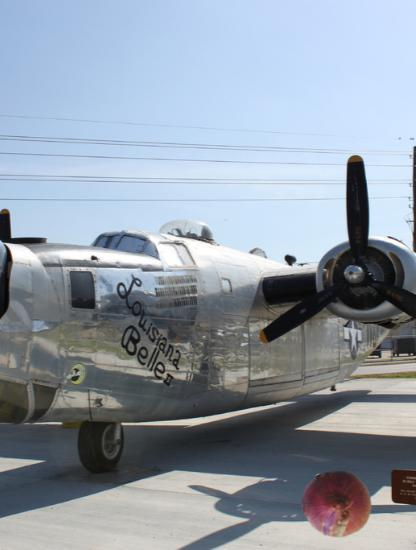Onion: (302, 469, 372, 539)
